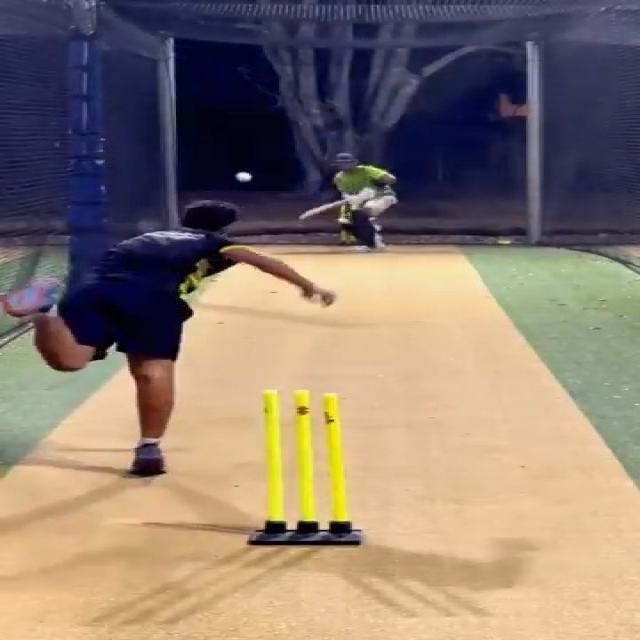ball: (233, 170, 254, 183)
stump: (247, 389, 365, 548)
